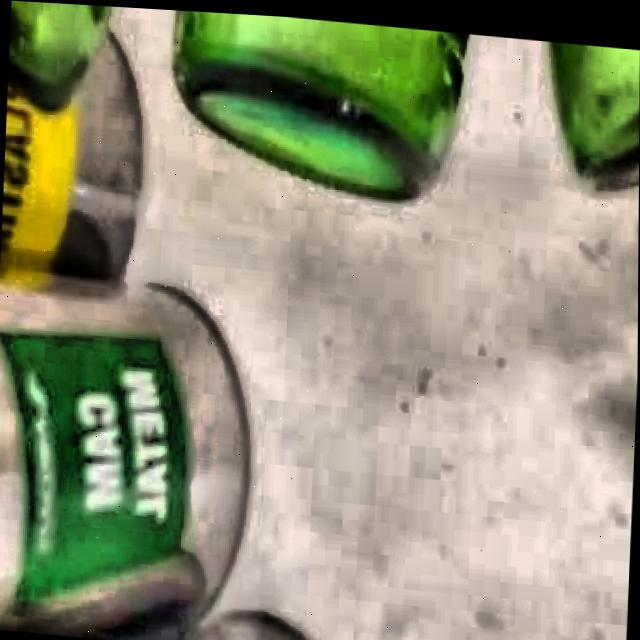glass: (173, 8, 470, 195)
